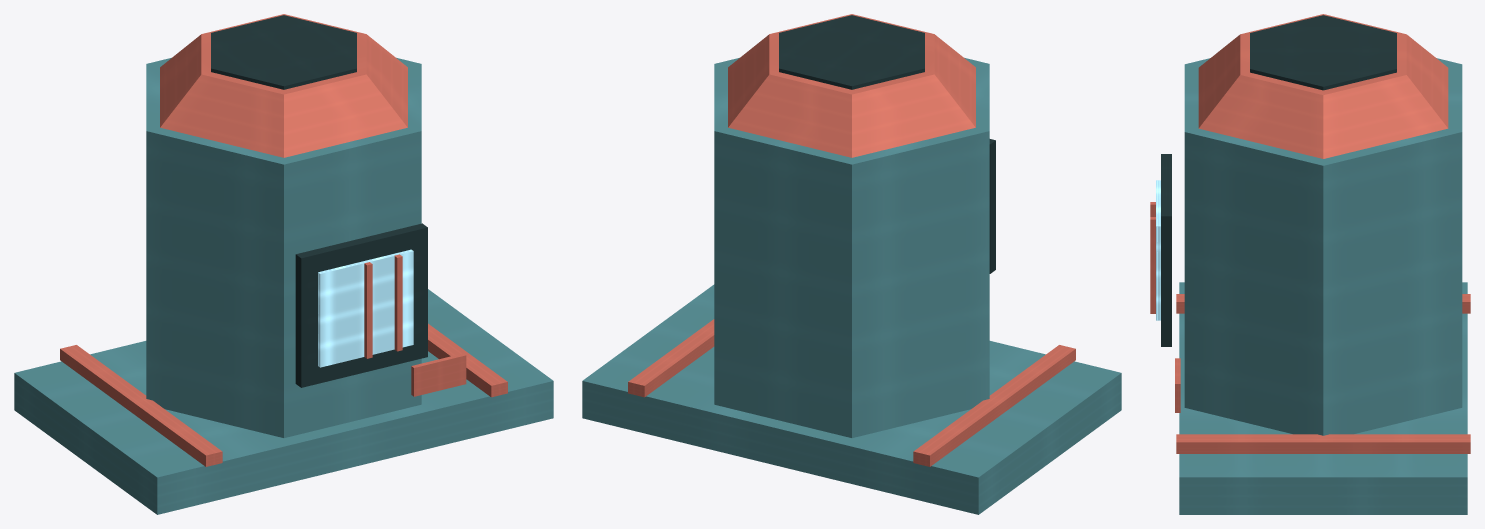
Rendered from atlas100-s080-a01.lod2.glb.
3 views of the same model, side by side, from view 1: azimuth 30°, elevation 25°; view 2: azimuth 150°, elevation 25°; view 3: azimuth 270°, elevation 25° (orthographic).
Visible parts, largest first — view 1: atlas100-s080-a01:part-003, atlas100-s080-a01:part-000, atlas100-s080-a01:part-004, atlas100-s080-a01:part-006, atlas100-s080-a01:part-005, atlas100-s080-a01:part-007, atlas100-s080-a01:part-001, atlas100-s080-a01:part-011, atlas100-s080-a01:part-002, atlas100-s080-a01:part-010, atlas100-s080-a01:part-009; view 2: atlas100-s080-a01:part-003, atlas100-s080-a01:part-000, atlas100-s080-a01:part-004, atlas100-s080-a01:part-005, atlas100-s080-a01:part-001, atlas100-s080-a01:part-002, atlas100-s080-a01:part-006; view 3: atlas100-s080-a01:part-003, atlas100-s080-a01:part-000, atlas100-s080-a01:part-004, atlas100-s080-a01:part-005, atlas100-s080-a01:part-002, atlas100-s080-a01:part-006, atlas100-s080-a01:part-007, atlas100-s080-a01:part-010.
Part boxes in pixels (left/top/right/bottom): atlas100-s080-a01:part-003: left=146, top=57, right=421, bottom=437; atlas100-s080-a01:part-000: left=14, top=289, right=553, bottom=514; atlas100-s080-a01:part-004: left=160, top=14, right=407, bottom=157; atlas100-s080-a01:part-006: left=295, top=223, right=427, bottom=387; atlas100-s080-a01:part-005: left=211, top=15, right=356, bottom=89; atlas100-s080-a01:part-007: left=318, top=249, right=413, bottom=367; atlas100-s080-a01:part-001: left=60, top=345, right=222, bottom=466; atlas100-s080-a01:part-011: left=411, top=353, right=466, bottom=396; atlas100-s080-a01:part-002: left=428, top=323, right=507, bottom=397; atlas100-s080-a01:part-010: left=394, top=254, right=402, bottom=351; atlas100-s080-a01:part-009: left=364, top=262, right=372, bottom=358; atlas100-s080-a01:part-003: left=714, top=57, right=989, bottom=437; atlas100-s080-a01:part-000: left=582, top=284, right=1121, bottom=514; atlas100-s080-a01:part-004: left=728, top=14, right=975, bottom=157; atlas100-s080-a01:part-005: left=779, top=15, right=924, bottom=89; atlas100-s080-a01:part-001: left=913, top=345, right=1075, bottom=466; atlas100-s080-a01:part-002: left=628, top=319, right=714, bottom=397; atlas100-s080-a01:part-006: left=989, top=139, right=995, bottom=273; atlas100-s080-a01:part-003: left=1184, top=58, right=1462, bottom=435; atlas100-s080-a01:part-000: left=1179, top=282, right=1467, bottom=514; atlas100-s080-a01:part-004: left=1198, top=14, right=1448, bottom=158; atlas100-s080-a01:part-005: left=1250, top=15, right=1396, bottom=90; atlas100-s080-a01:part-002: left=1176, top=434, right=1470, bottom=453; atlas100-s080-a01:part-006: left=1161, top=154, right=1171, bottom=346; atlas100-s080-a01:part-007: left=1156, top=180, right=1160, bottom=320; atlas100-s080-a01:part-010: left=1150, top=217, right=1155, bottom=313.
Size of the model in its own units: 2.88 by 2.53 by 2.
4 materials, 4 textured.
